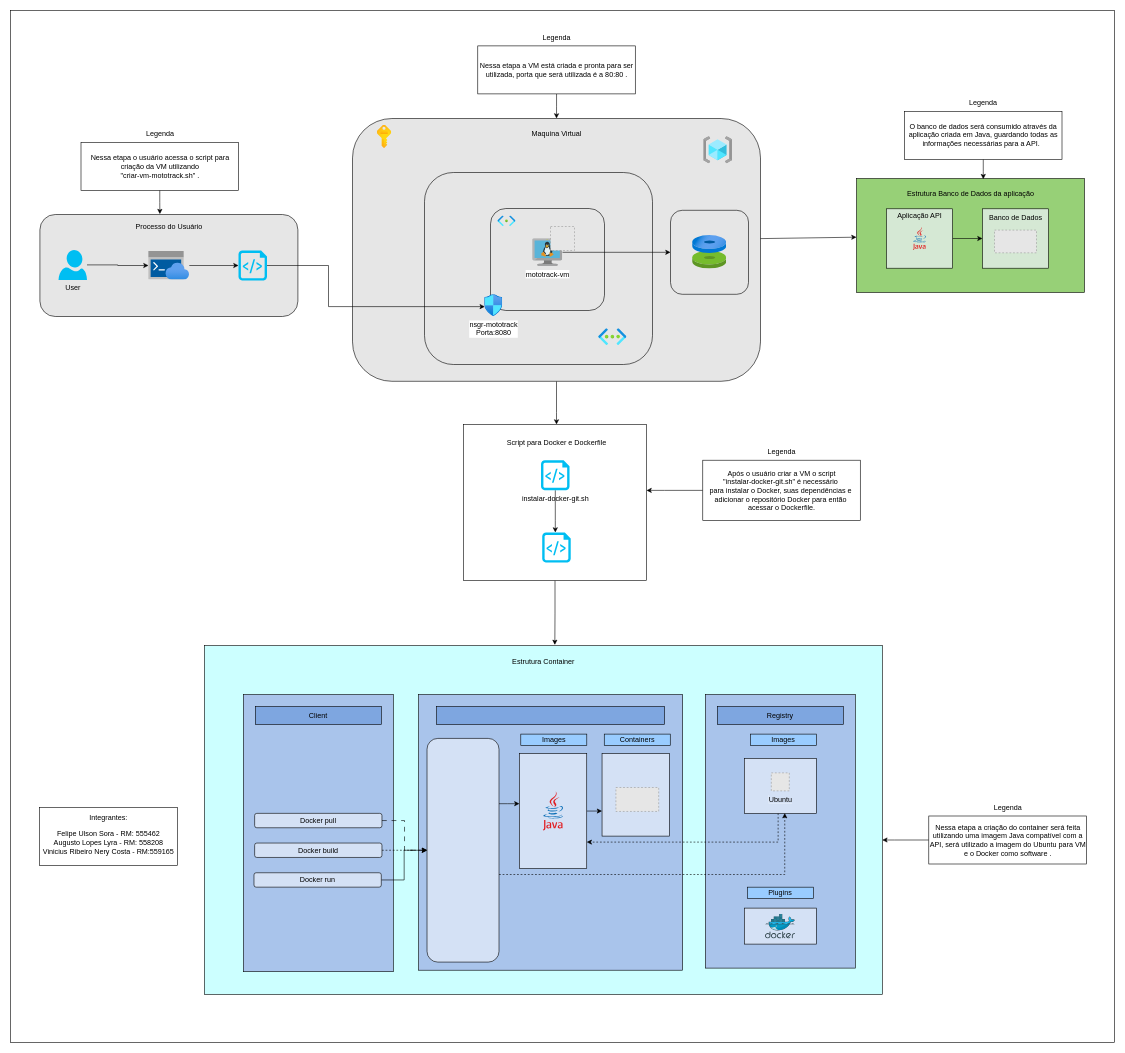
Some shapes in this 1125 by 1053 pixel diagram are drawn without their labels. Grey dashed boxes stand in for pictures. Each missing label, with the centre of its shape:
"Azure for Students" goes at (384,136).
"Cloud shell" goes at (168,265).
"criar-vm-mototrack.sh" goes at (252,265).
"Docker daemon" goes at (462,850).
"Docker Host" goes at (550,715).
"Dockerfile" goes at (556,547).
"mototrack-rg" goes at (717,149).
"mototrack-vm_OsFisk" goes at (709,252).
"Subnet" goes at (506,220).
"vnet-mototrack-vm" goes at (612,336).
